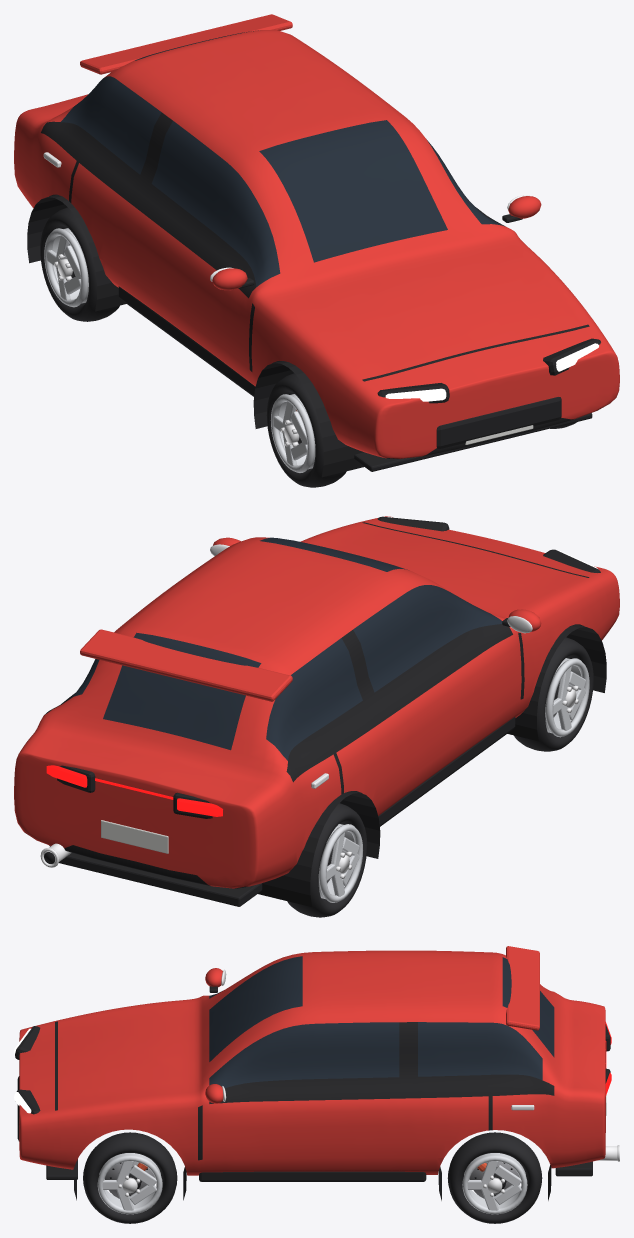
The model's file is kestrel_mid.glb.
3 renders of one model, top to bottom at view 1: azimuth 30°, elevation 25°; view 2: azimuth 150°, elevation 25°; view 3: azimuth 270°, elevation 25°, orthographic. The views are drawn at different scales.
Parts seen in each view (by area): view 1: body, wheel_fr, wheel_rr; view 2: body, wheel_rr, wheel_fr; view 3: body, wheel_fl, wheel_rl.
Boxes of the visible parts, x1=… form: body: x1=14, y1=14, x2=619, y2=477; wheel_fr: x1=266, y1=373, x2=346, y2=487; wheel_rr: x1=40, y1=207, x2=119, y2=321; body: x1=14, y1=516, x2=619, y2=906; wheel_rr: x1=287, y1=803, x2=367, y2=917; wheel_fr: x1=514, y1=637, x2=593, y2=751; body: x1=14, y1=946, x2=619, y2=1200; wheel_fl: x1=83, y1=1132, x2=177, y2=1223; wheel_rl: x1=447, y1=1132, x2=542, y2=1223.
Bounding box in the file's own units: 2.12 × 1.52 × 4.24.
